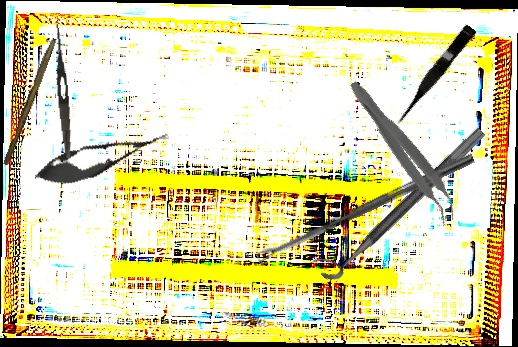Dressing Forceps: (51, 22, 74, 159)
Fixation Ring: (310, 113, 487, 287)
Micro Scissor: (30, 119, 174, 195), (389, 22, 478, 128)
Scalpel Handle: (2, 36, 57, 167)
Surgical Spoon: (254, 152, 476, 263)
Tissue Forceps: (339, 75, 466, 228)
